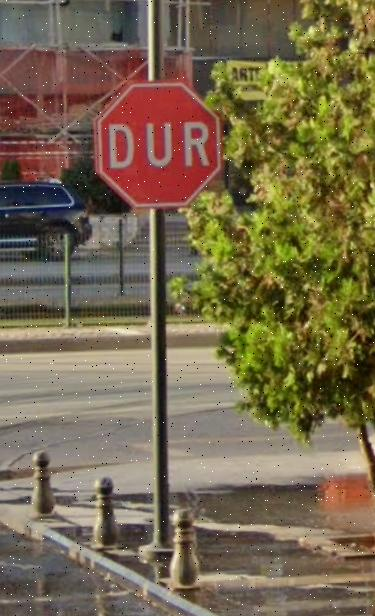stop: (94, 84, 220, 213)
